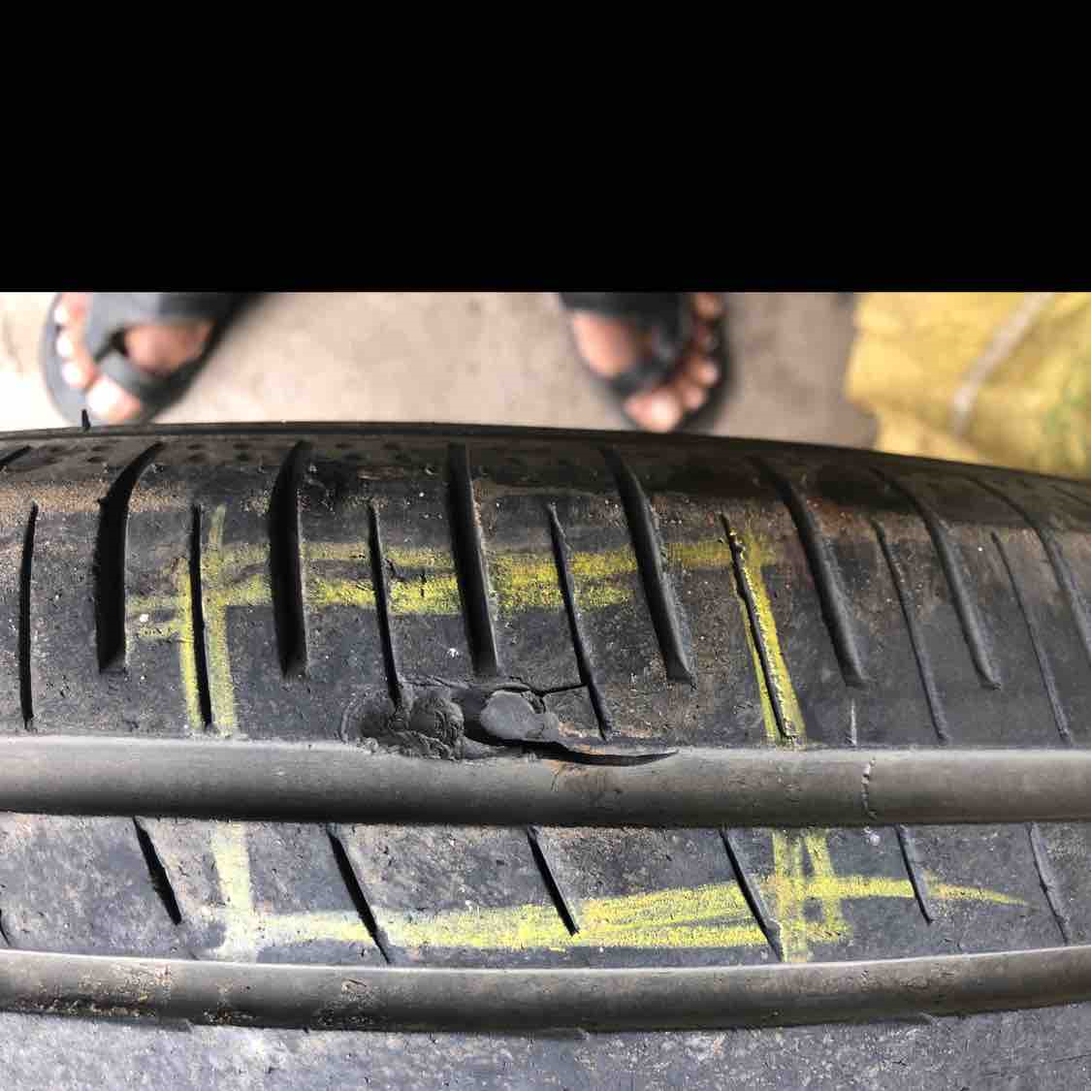tr: (337, 675, 691, 772)
